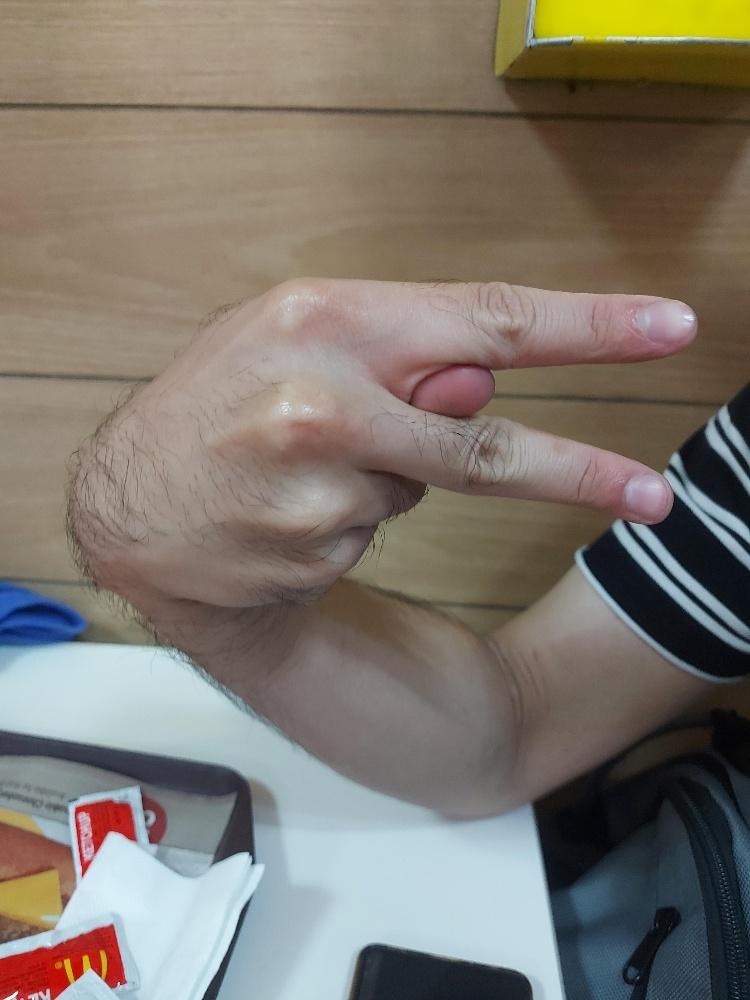k: (68, 276, 702, 611)
